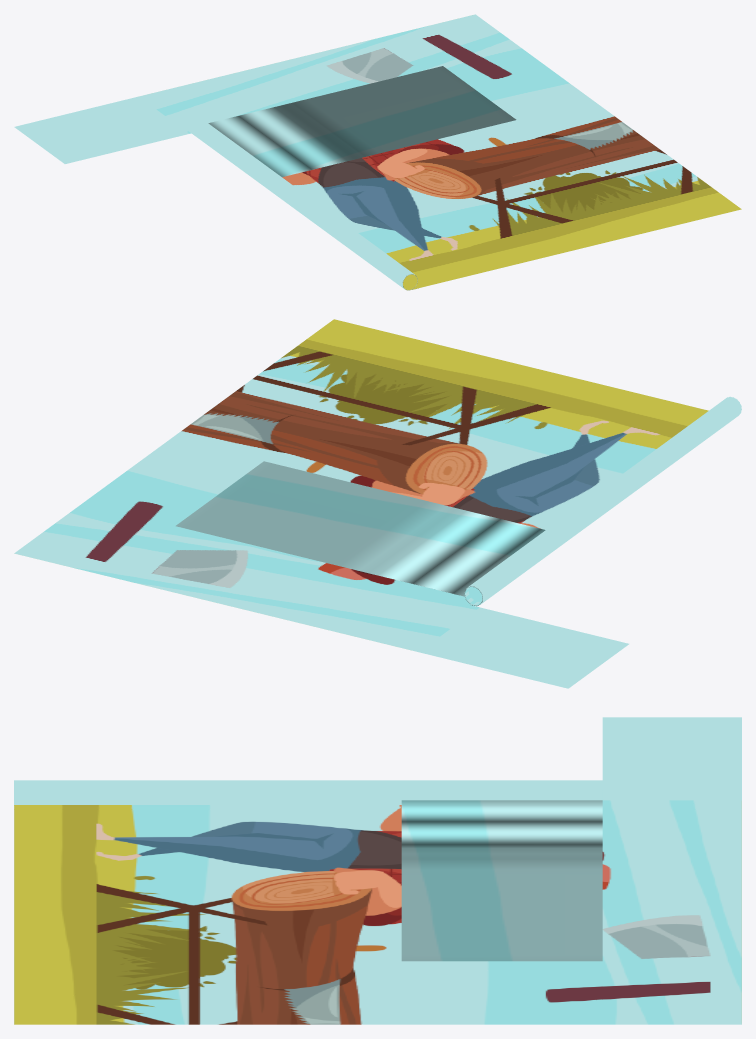
The picture shows the model from 3 angles, top to bottom: view 1: azimuth 30°, elevation 25°; view 2: azimuth 150°, elevation 25°; view 3: azimuth 270°, elevation 25°; orthographic projection. The views are drawn at different scales.
Parts seen in each view (by area): view 1: mesh, flag, stick; view 2: mesh, flag, stick; view 3: mesh, flag, stick.
Boxes of the visible parts, bbox=[...] form: mesh: bbox=[14, 14, 741, 287]; flag: bbox=[208, 66, 516, 177]; stick: bbox=[187, 116, 418, 290]; mesh: bbox=[14, 319, 708, 688]; flag: bbox=[176, 461, 545, 596]; stick: bbox=[464, 396, 741, 606]; mesh: bbox=[14, 717, 741, 1024]; flag: bbox=[401, 800, 602, 961]; stick: bbox=[14, 780, 602, 809].
Bounding box in the file's own units: 2400 × 81.16 × 2400.
